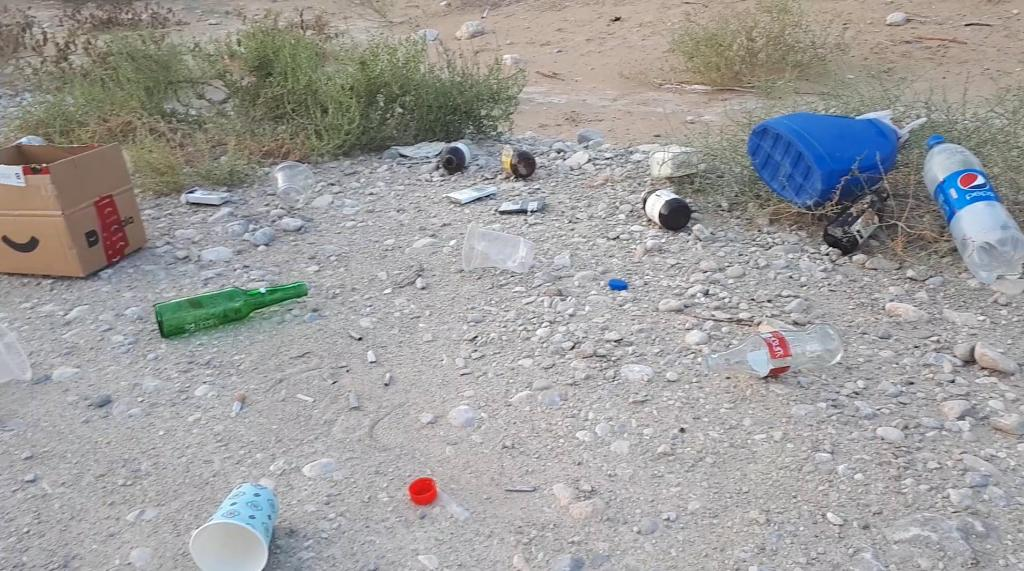garbage: (747, 84, 934, 207), (902, 117, 1024, 280), (923, 135, 1023, 284), (747, 111, 901, 207), (143, 286, 353, 351), (687, 318, 867, 392), (182, 474, 296, 571), (155, 281, 307, 337), (702, 323, 843, 377), (625, 176, 704, 235), (823, 187, 889, 253), (425, 140, 481, 179), (641, 188, 690, 230), (500, 146, 535, 178), (441, 142, 471, 172)
